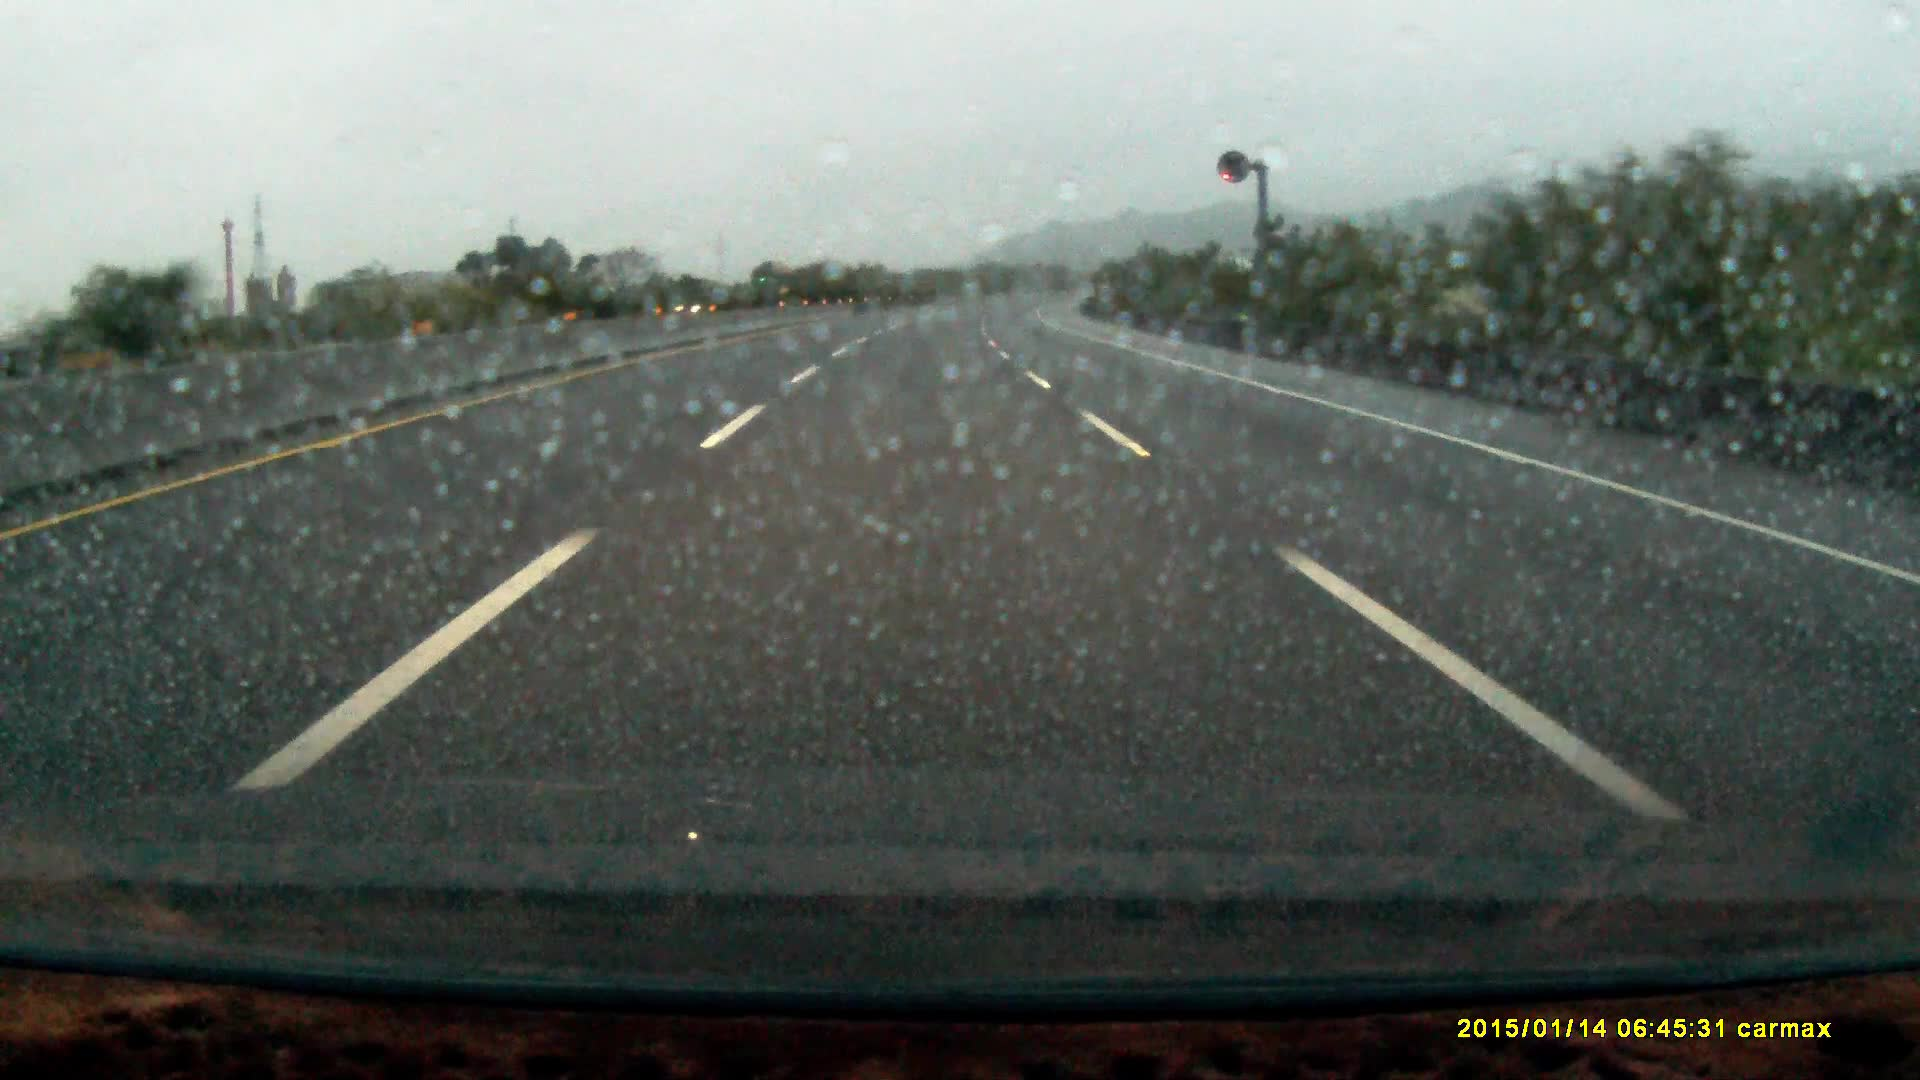vehicle: (749, 261, 793, 303), (676, 293, 721, 314)
